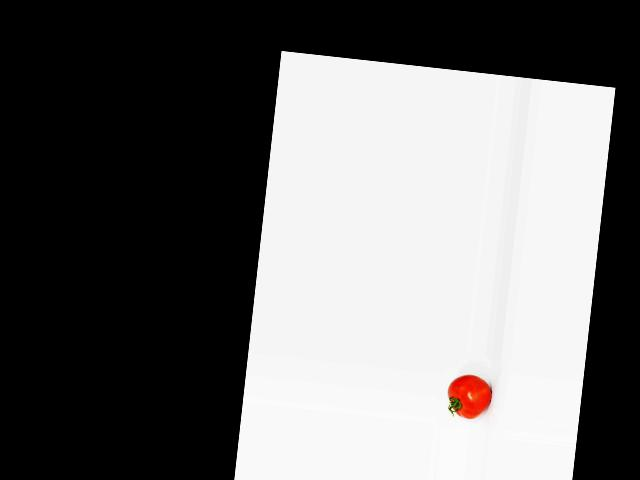tomato: (444, 372, 493, 420)
